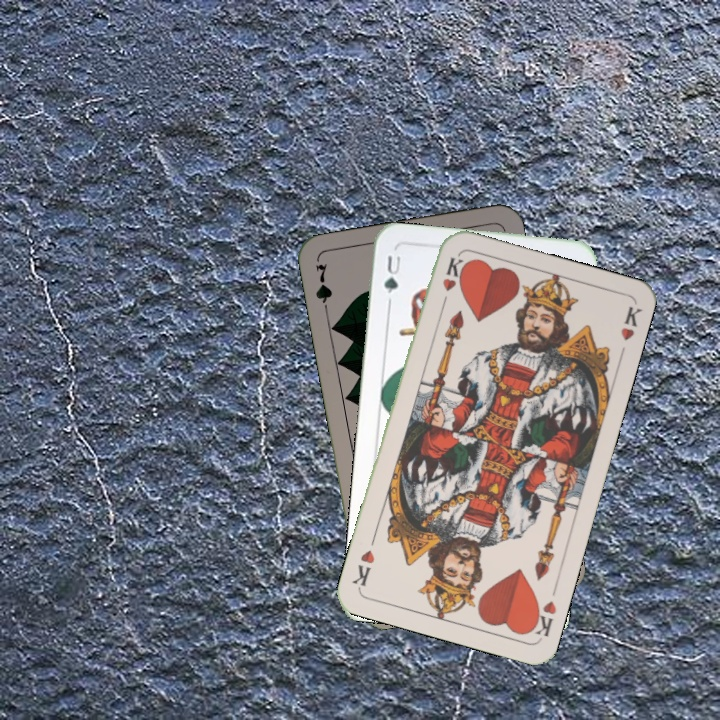G7: (311, 260, 335, 319)
GU: (380, 251, 403, 306)
HK: (437, 253, 466, 311), (525, 596, 559, 639)
